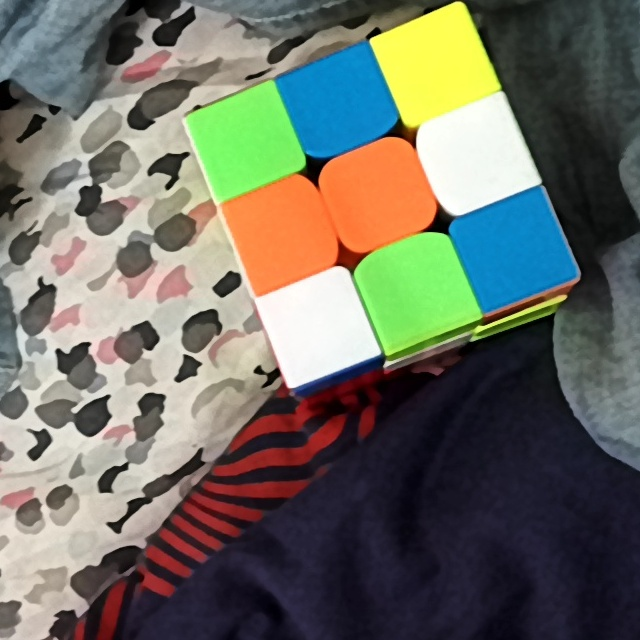tile: (341, 158, 418, 229), (245, 194, 318, 268), (378, 253, 454, 324), (438, 122, 512, 192), (476, 214, 550, 284), (398, 30, 474, 98), (299, 70, 376, 135), (284, 293, 348, 362), (210, 109, 278, 173)
